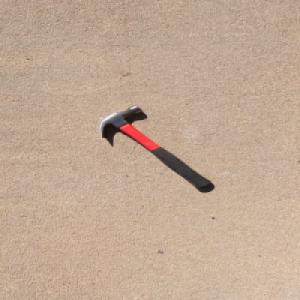Hammer: (98, 104, 213, 189)
